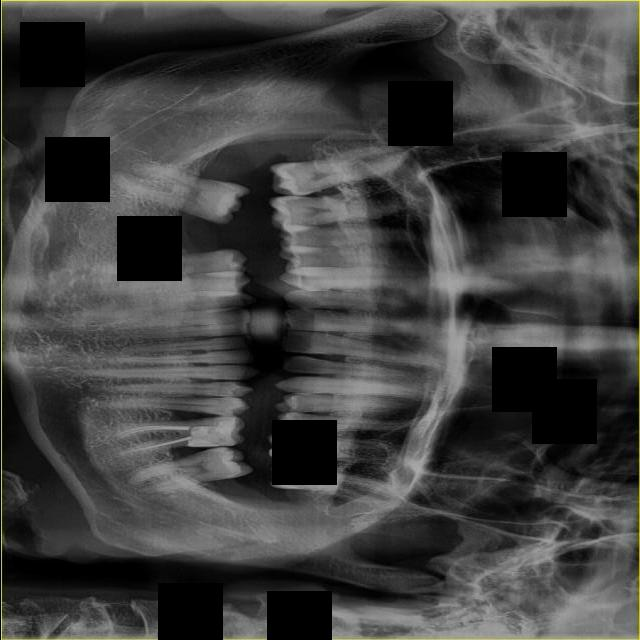74: (119, 436, 189, 457), (117, 421, 194, 438)
Straumann Implant: (186, 418, 241, 448)
